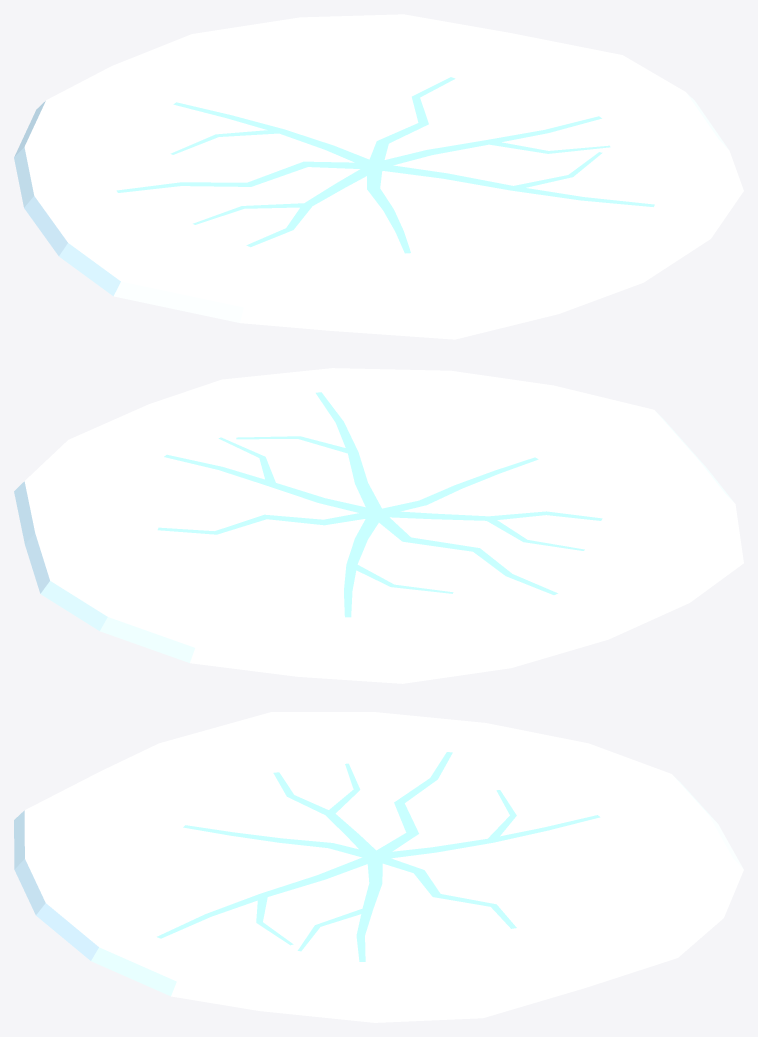
Rendered from thin_ice.glb.
The picture shows the model from 3 angles, top to bottom: view 1: azimuth 30°, elevation 25°; view 2: azimuth 150°, elevation 25°; view 3: azimuth 270°, elevation 25°; orthographic projection. The views are drawn at different scales.
Visible parts, largest first — view 1: ThinIce, Crack6, Crack3, Crack2, Crack0, Crack1, Crack4, Crack5; view 2: ThinIce, Crack6, Crack0, Crack3, Crack2, Crack4, Crack1, Crack5; view 3: ThinIce, Crack6, Crack3, Crack2, Crack0, Crack4, Crack1, Crack5.
Boxes of the visible parts, bbox=[...] form: ThinIce: bbox=[14, 14, 743, 339]; Crack6: bbox=[374, 163, 654, 206]; Crack3: bbox=[116, 161, 374, 192]; Crack2: bbox=[173, 102, 377, 168]; Crack0: bbox=[374, 116, 601, 168]; Crack1: bbox=[369, 77, 455, 166]; Crack4: bbox=[246, 169, 368, 247]; Crack5: bbox=[367, 169, 410, 253]; ThinIce: bbox=[14, 368, 743, 683]; Crack6: bbox=[316, 392, 384, 513]; Crack0: bbox=[164, 454, 379, 516]; Crack3: bbox=[371, 514, 557, 594]; Crack2: bbox=[344, 514, 382, 617]; Crack4: bbox=[383, 510, 602, 520]; Crack1: bbox=[157, 513, 379, 534]; Crack5: bbox=[377, 457, 538, 516]; ThinIce: bbox=[14, 712, 743, 1022]; Crack6: bbox=[157, 856, 367, 938]; Crack3: bbox=[369, 752, 452, 856]; Crack2: bbox=[375, 815, 600, 859]; Crack0: bbox=[356, 857, 382, 961]; Crack4: bbox=[273, 772, 375, 856]; Crack1: bbox=[382, 858, 516, 928]; Crack5: bbox=[183, 825, 371, 857].
Bounding box in the file's own units: 2.04 × 0.04 × 2.07.
